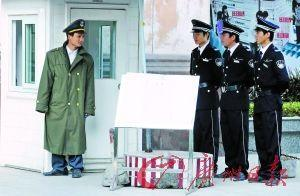up: (29, 18, 100, 178), (251, 14, 287, 188), (183, 15, 221, 173), (218, 21, 251, 181)
